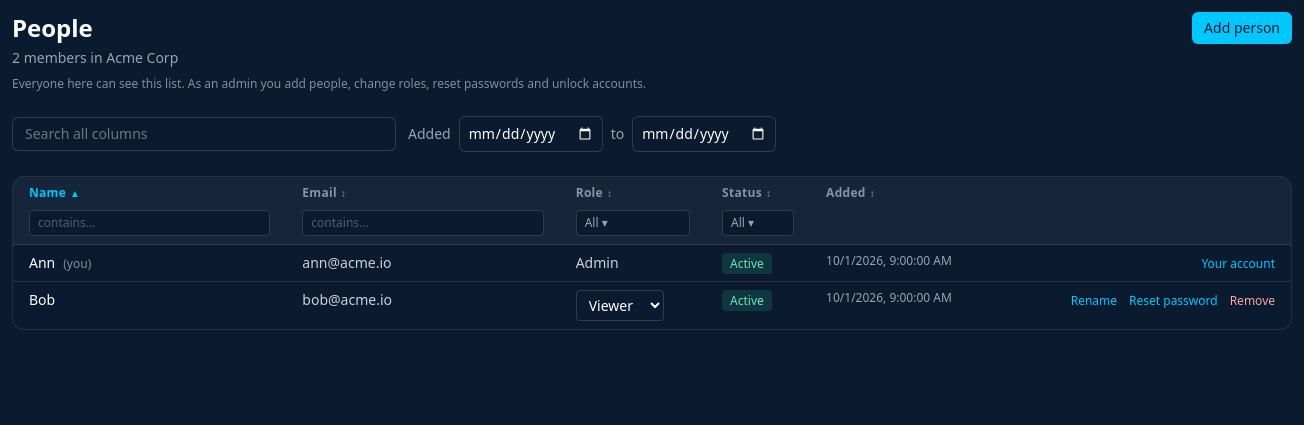
Scenario: People page › changes a role only after confirming
This screenshot has width=1304, height=425.
Select "Auditor" in the dropdown named "Role of Bob" at [620, 306], box [576, 290, 664, 321]
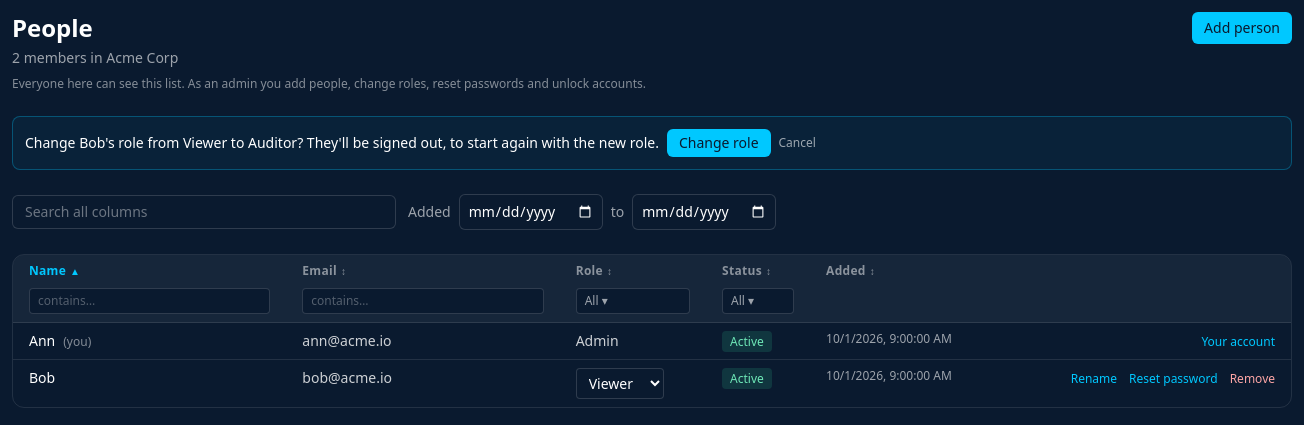
Now the element named "Confirm" shows "Change Bob's role from Viewer to Auditor?", box [25, 133, 659, 152]
Click the button "Change role".
click(719, 143)  # box [667, 129, 770, 157]
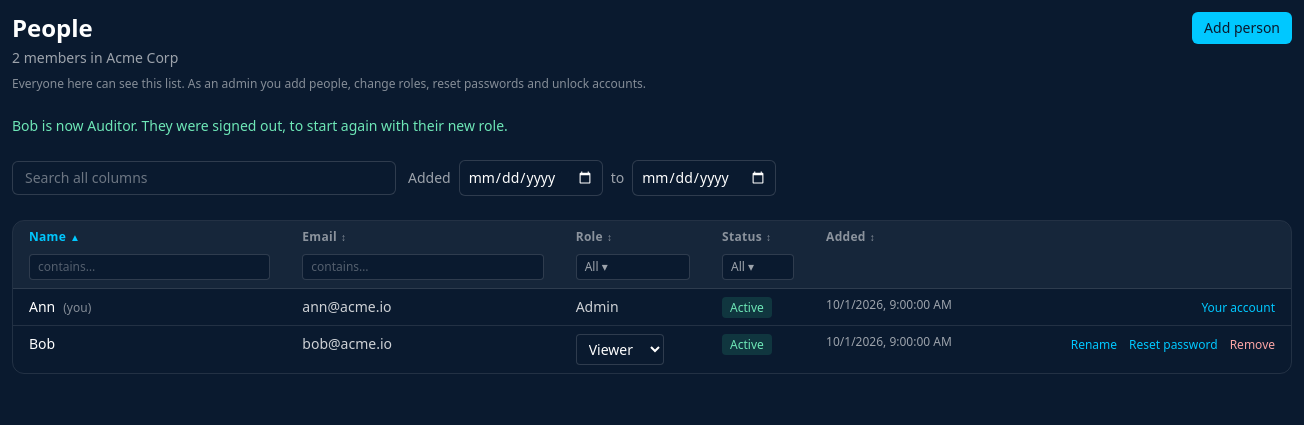
Now the message shows "Bob is now Auditor.", box [12, 116, 508, 135]
